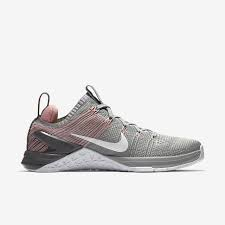nike: (69, 130, 130, 153)
